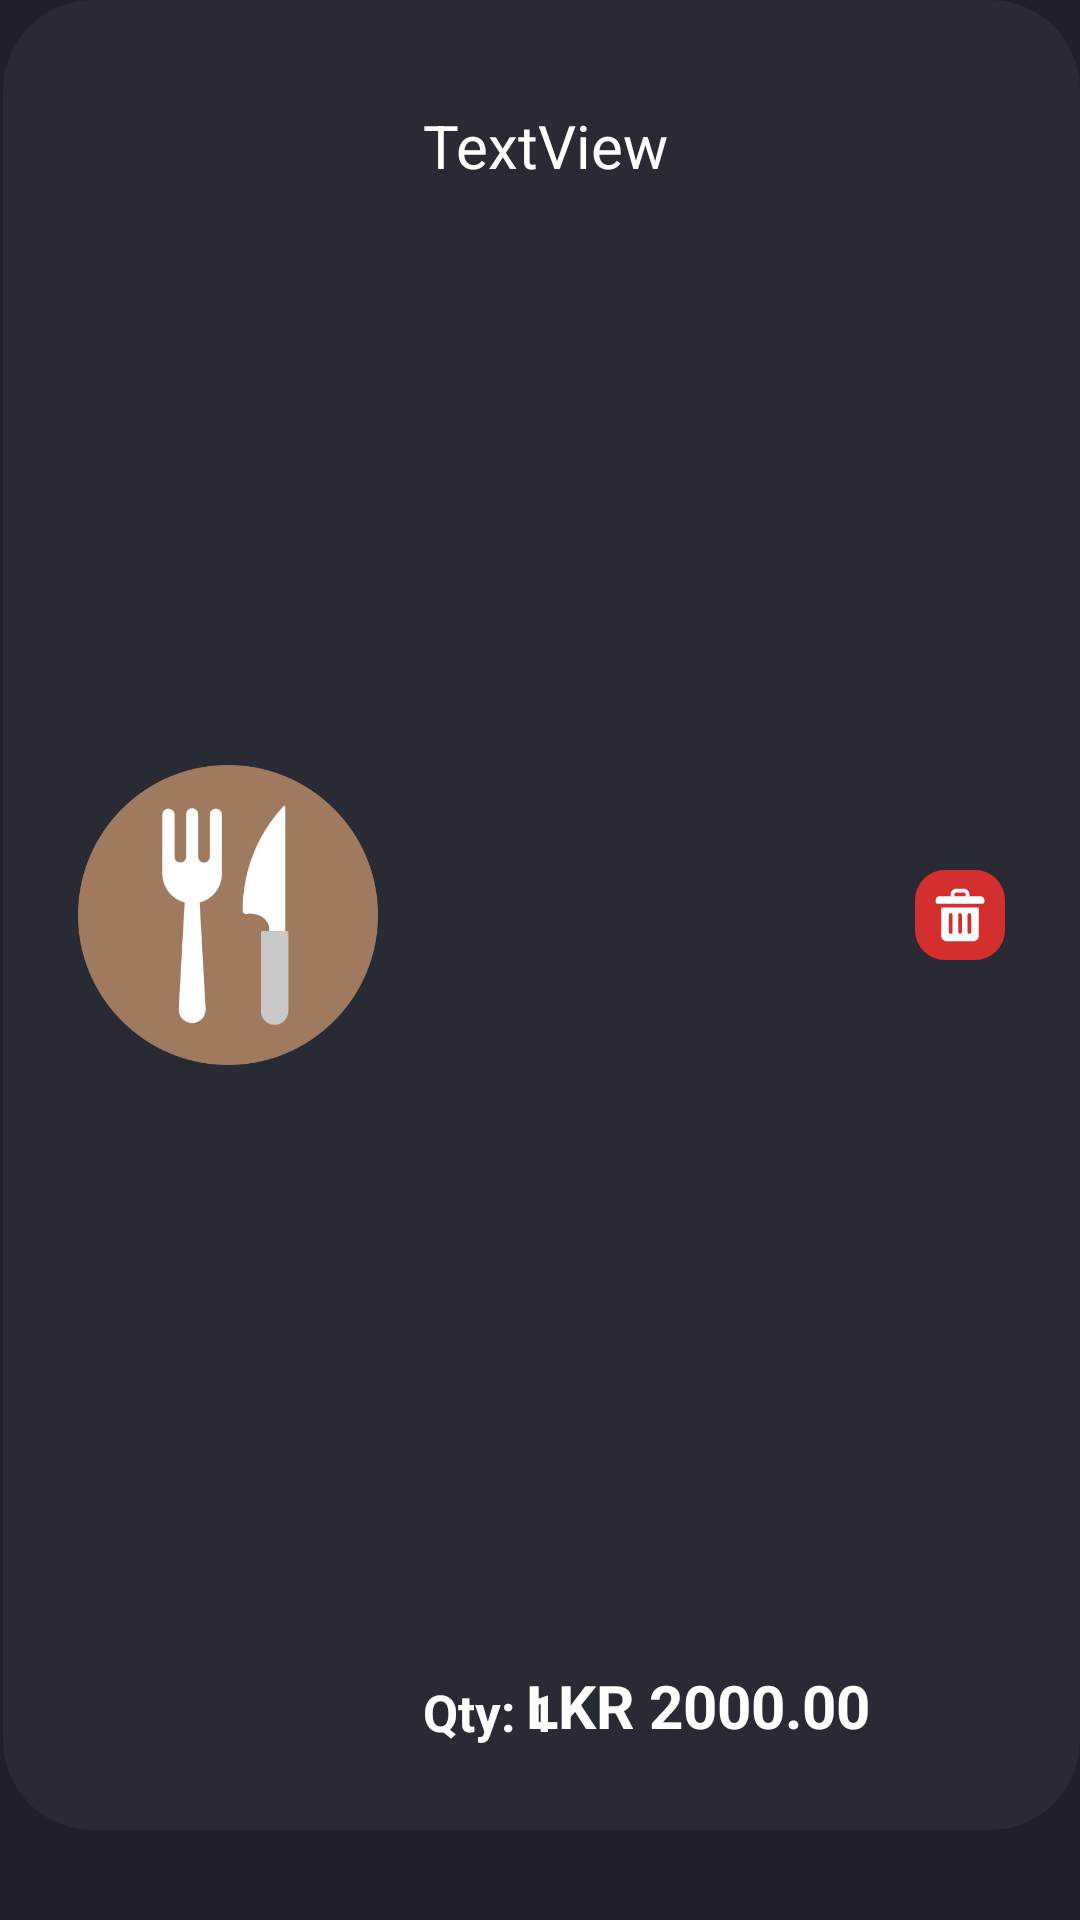

Icon click points for this 1080w x 1920h phone screenshot, format point (x, y):
can trash: point (960, 915)
